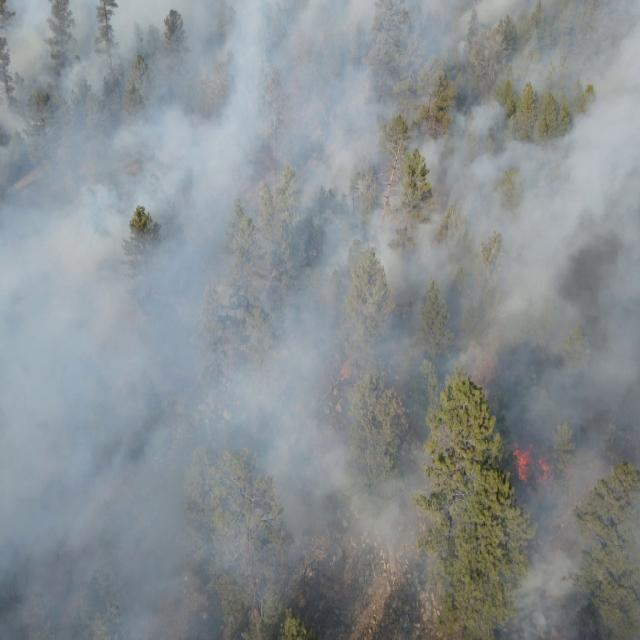fire: (506, 439, 534, 485), (538, 453, 556, 483), (337, 361, 353, 383)
smoke: (0, 0, 301, 640), (300, 0, 640, 552), (504, 552, 603, 640)
